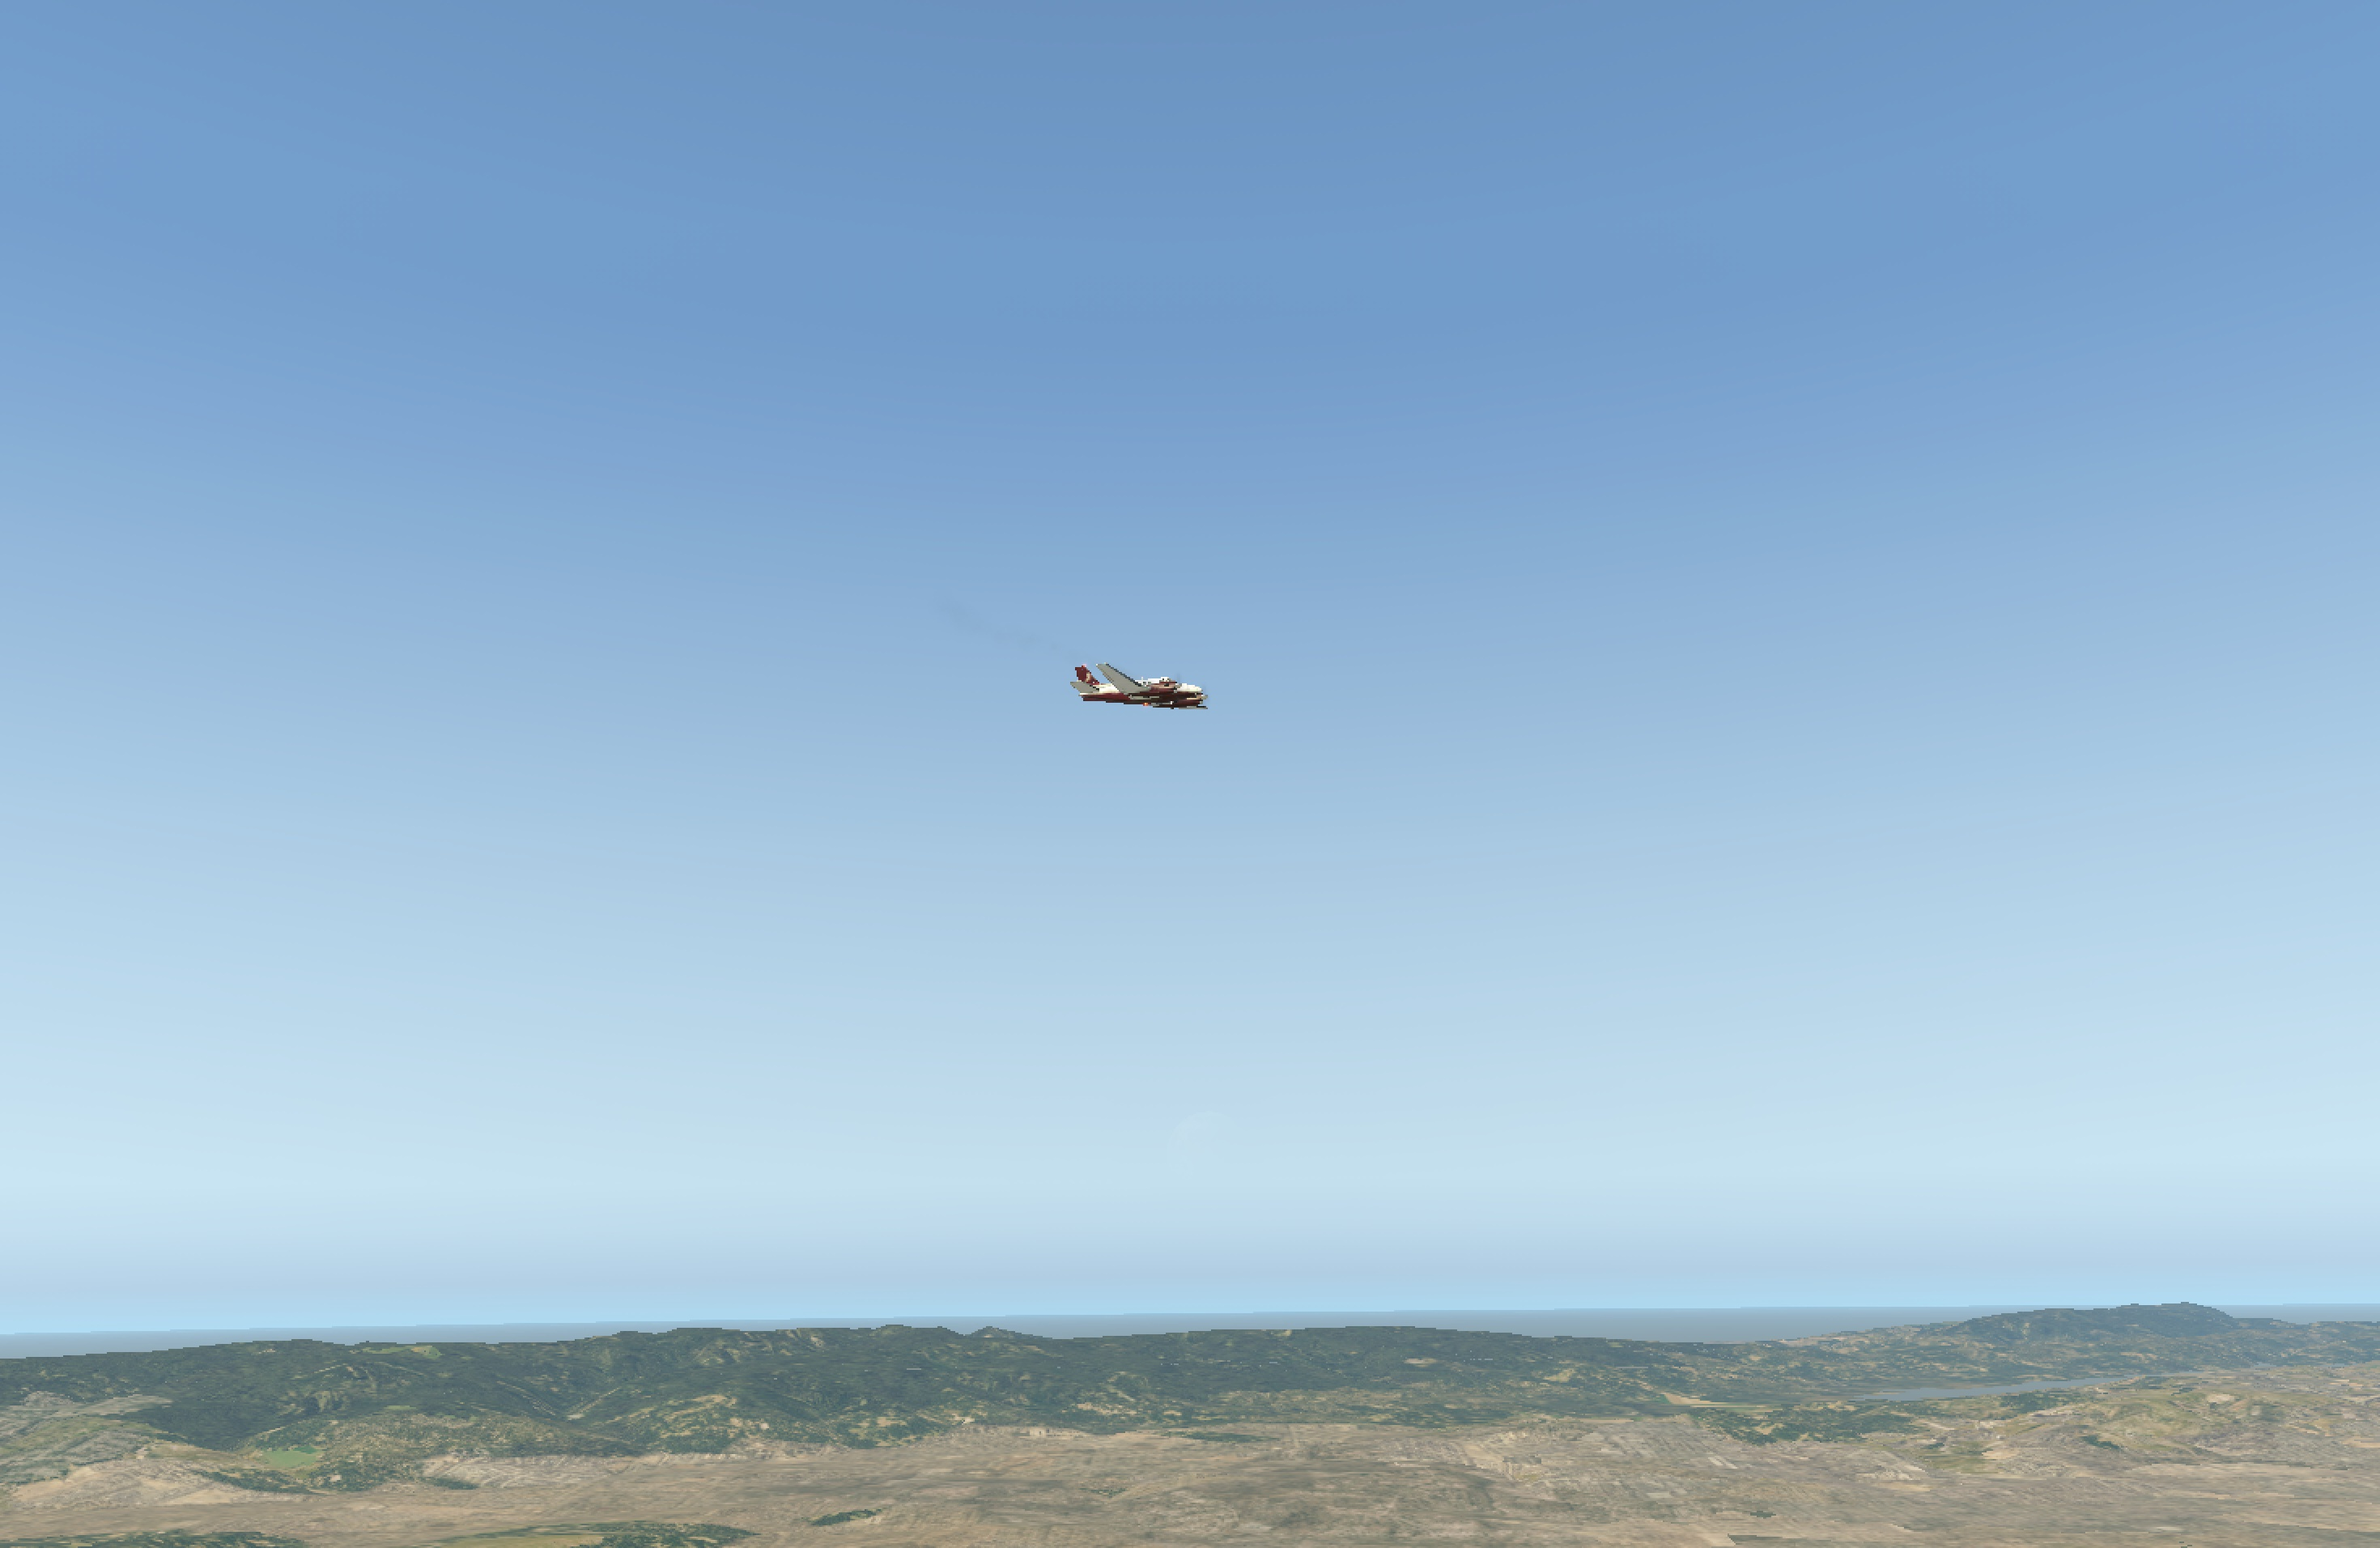aircraft: (1053, 659, 1268, 741)
